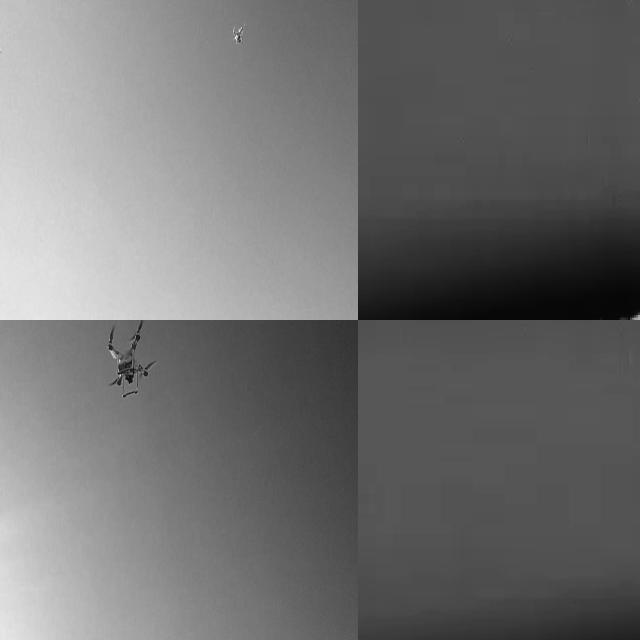drone: (103, 320, 154, 405), (230, 16, 248, 48)
